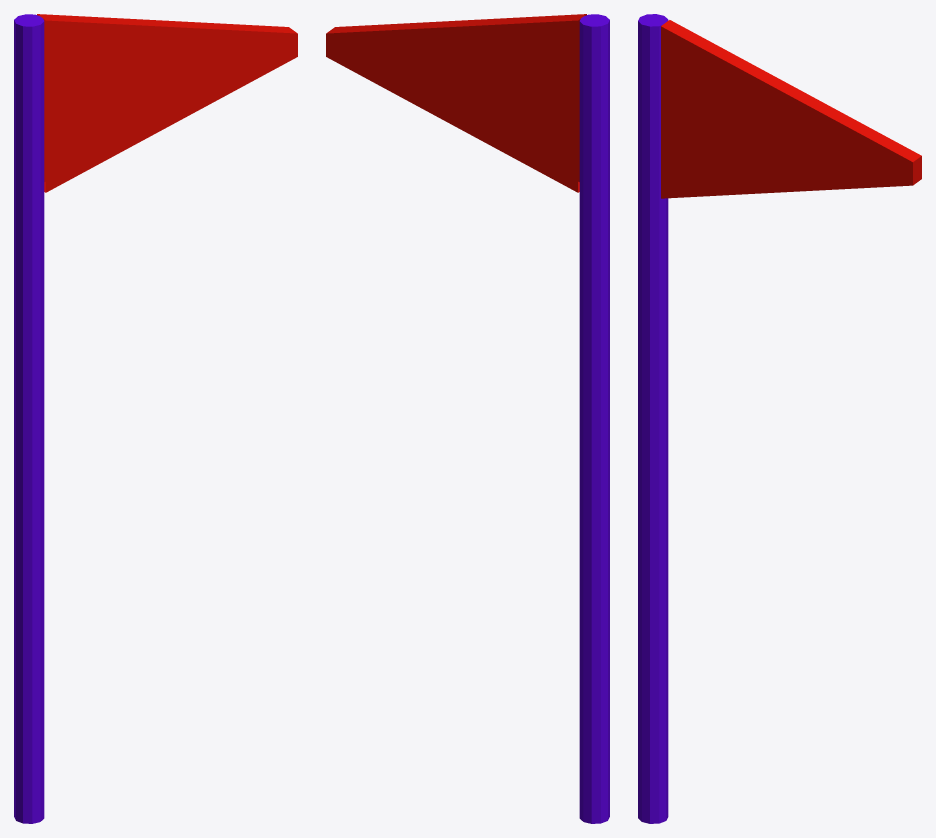
Rendered from bayrak.fbx.
3 views of the same model, side by side, from view 1: azimuth 30°, elevation 25°; view 2: azimuth 150°, elevation 25°; view 3: azimuth 330°, elevation 25° (orthographic).
Visible parts, largest first — view 1: pCylinder2; view 2: pCylinder2; view 3: pCylinder2.
Part boxes in pixels (left/top/right/bottom): pCylinder2: left=14, top=14, right=297, bottom=823; pCylinder2: left=326, top=14, right=609, bottom=823; pCylinder2: left=638, top=14, right=921, bottom=823.
Size of the model in its own units: 3.8 by 10.43 by 0.3437.
